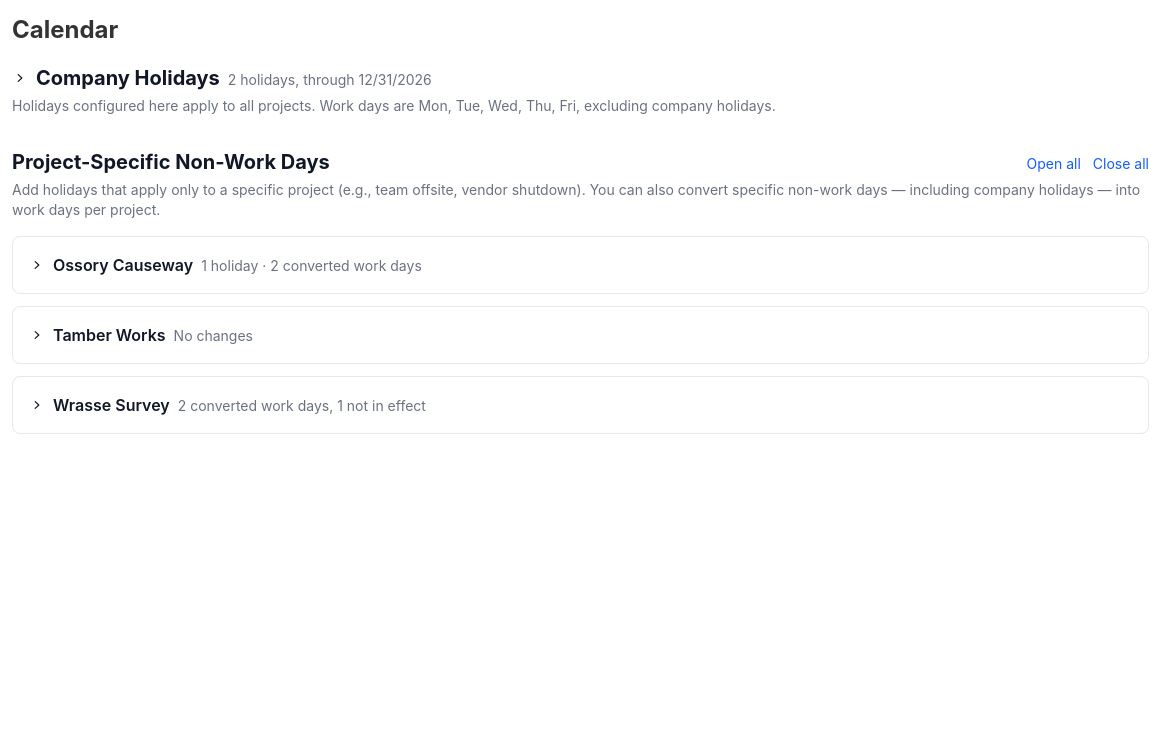
Test: WI-174: every calendar is one line, closed › a row's editors mount the first time it opens: only the opened row fetches the country list
Click the button "Wrasse Survey 2 converted work days, 1 not in effect" at (111, 405), box [29,393,1132,417]
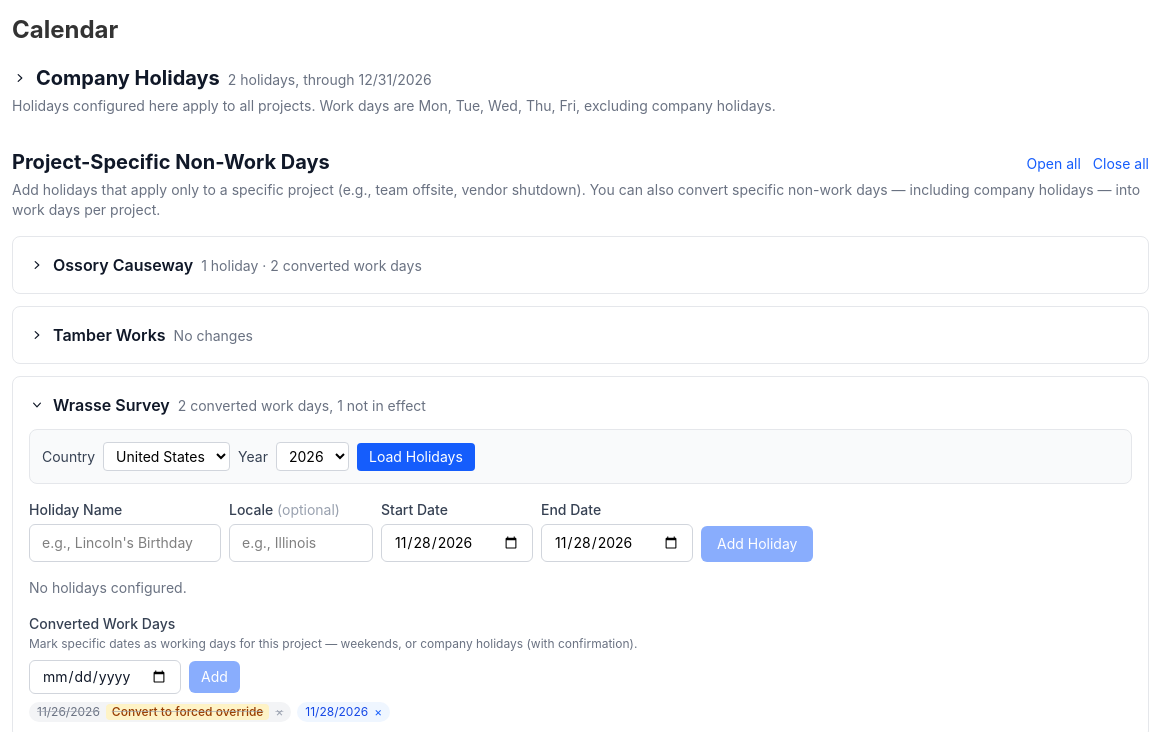
Expected: the number of fields labelled "Holiday Name" is 1, [29,524,221,562]
Expected: the number of date fields named "Work day override date" is 1, [29,660,181,694]
